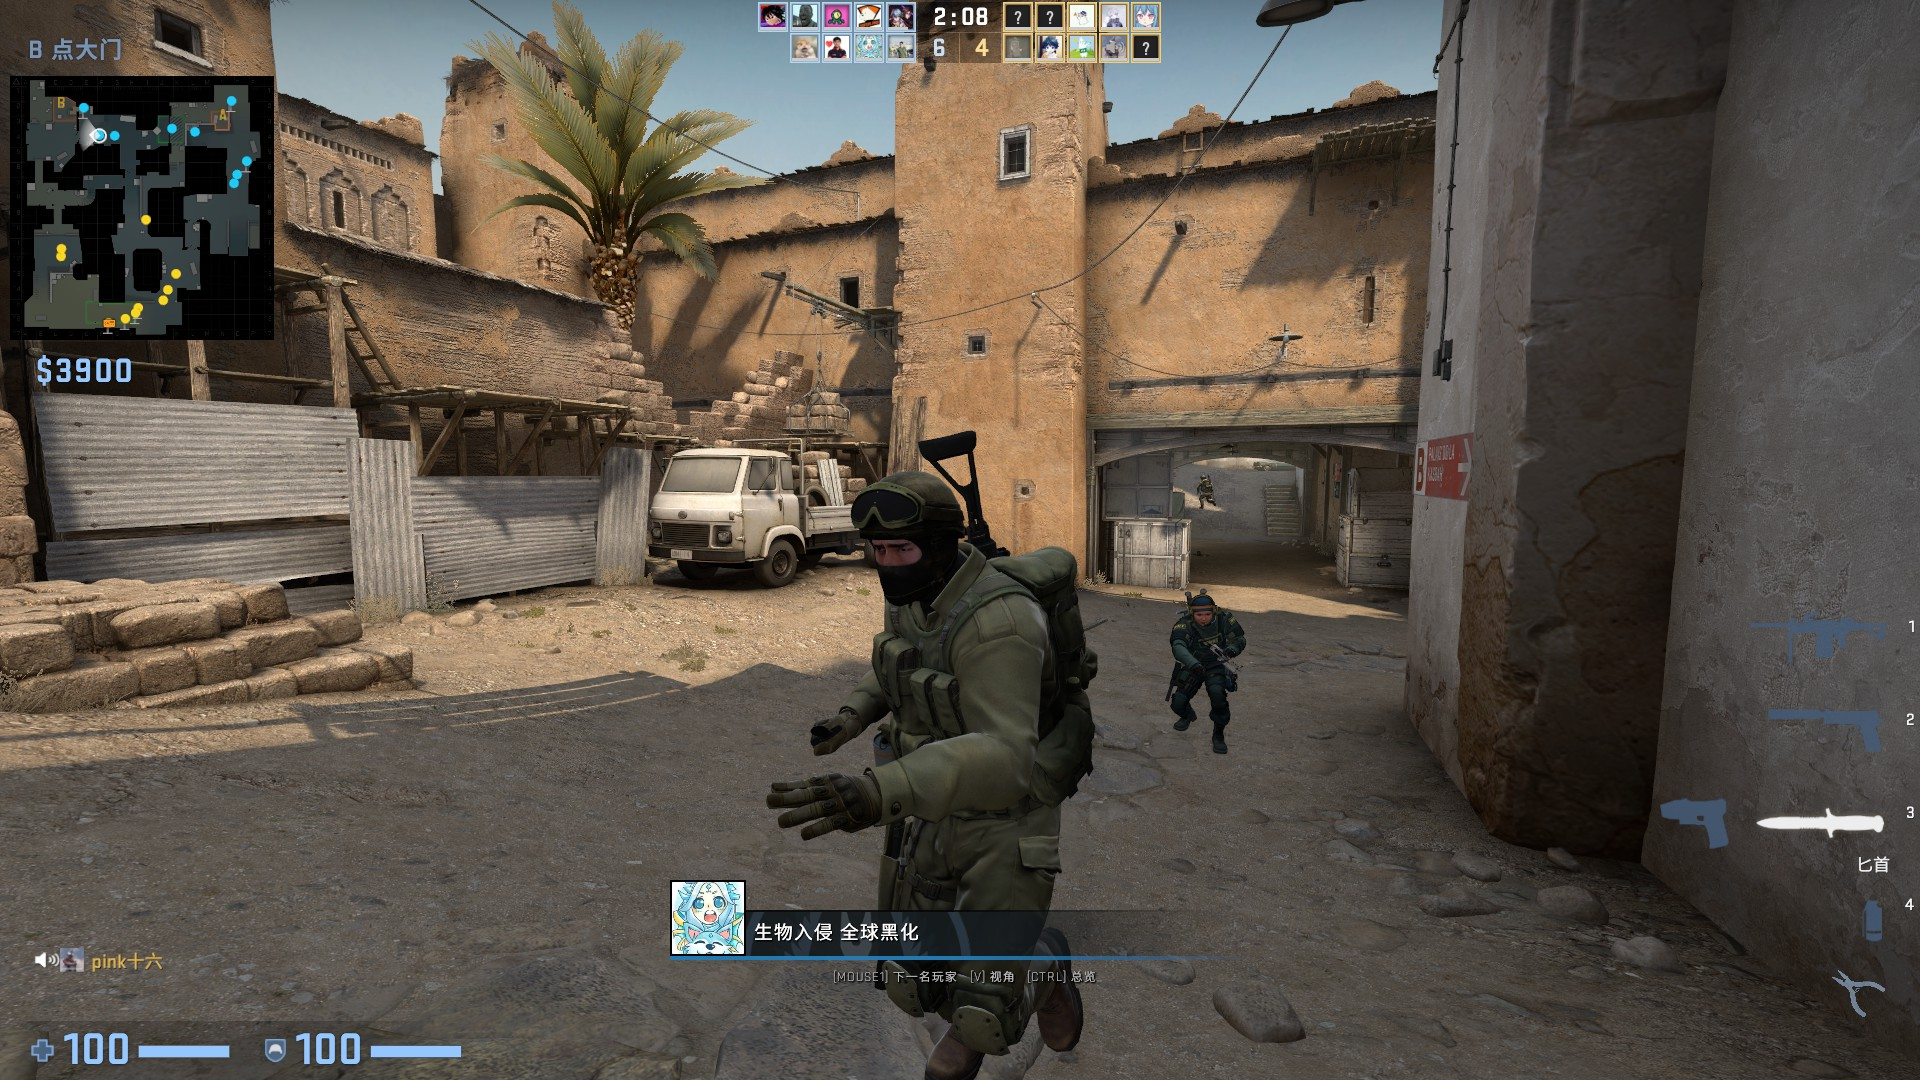head: (846, 469, 958, 604), (1188, 595, 1215, 626), (1199, 474, 1207, 481)
